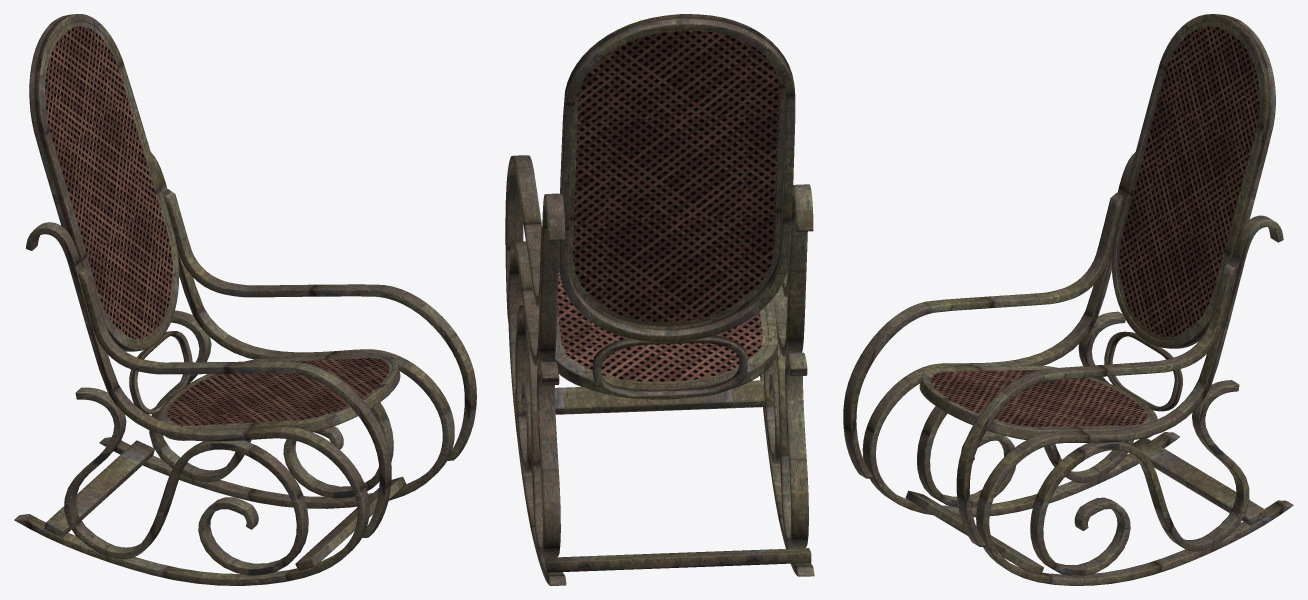
Rendered from mecedora 1.FBX.
3 views of the same model, side by side, from view 1: azimuth 30°, elevation 25°; view 2: azimuth 150°, elevation 25°; view 3: azimuth 270°, elevation 25° (orthographic). The views are drawn at different scales.
Parts seen in each view (by area): view 1: mecedora; view 2: mecedora; view 3: mecedora.
Part boxes in pixels (x1=…): mecedora: x1=14, y1=14, x2=476, y2=585; mecedora: x1=505, y1=14, x2=814, y2=585; mecedora: x1=843, y1=14, x2=1293, y2=585.
Size of the model in its own units: 33.86 by 44.16 by 37.8.
